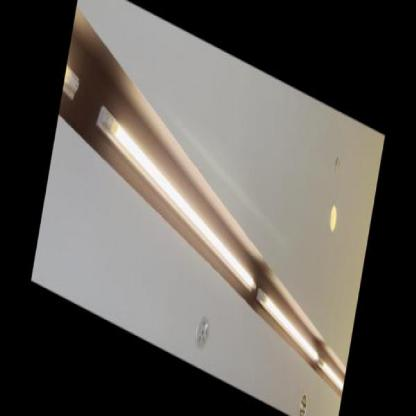light_on: (78, 95, 272, 309), (248, 262, 332, 377), (316, 348, 347, 402), (60, 56, 88, 113)
